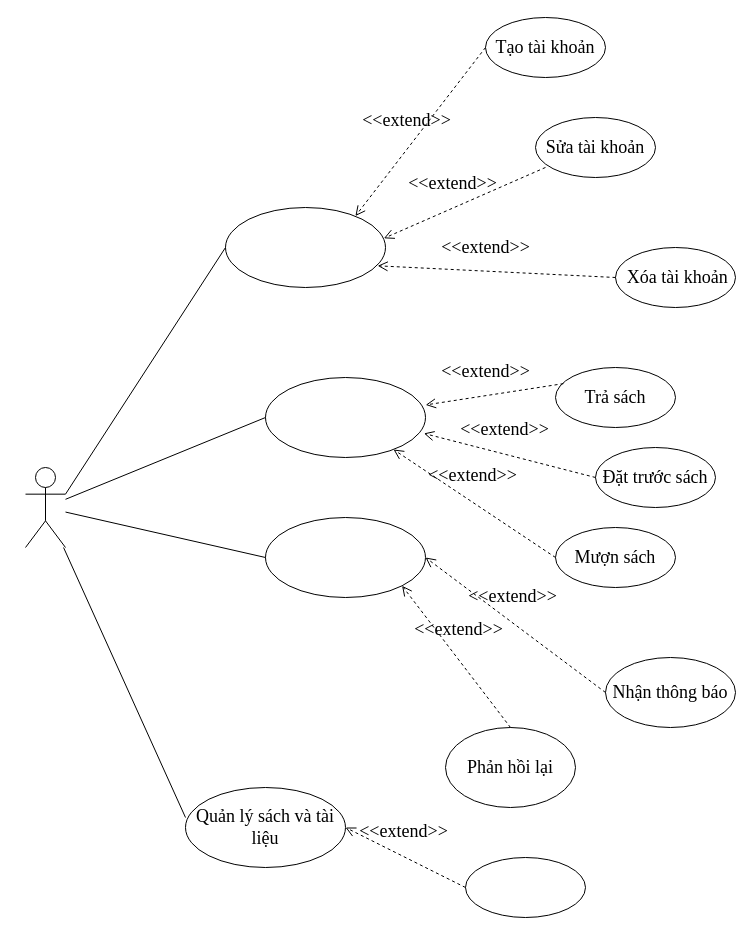
This 753x935 diagram has some shape labels left out. Each missing label, with the centre of its shape:
"Quản lý mượn - trả - đặt trước" belongs at (345,417).
"Quản lý thông báo phản hồi" belongs at (345,557).
"Quản lý tài khoản" belongs at (305,247).
"Tìm kiếm sách" belongs at (525,887).
"Độc giả" belongs at (45,507).
